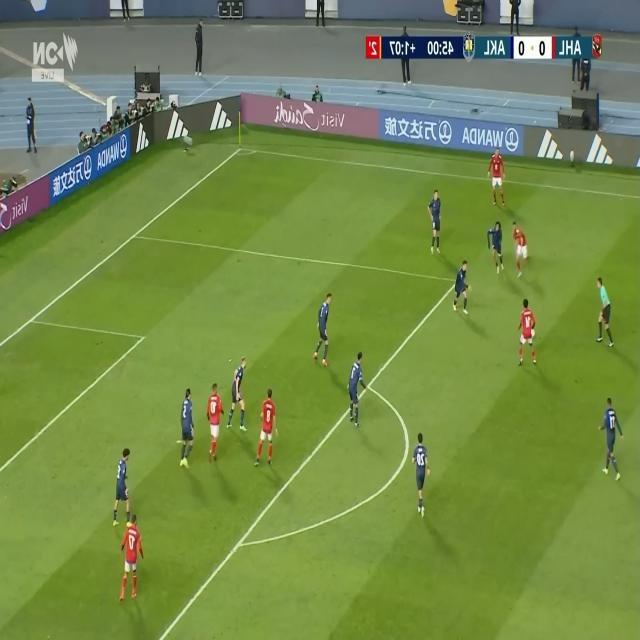Ball: (530, 326, 536, 338)
Player: (117, 518, 143, 604), (252, 390, 278, 470), (597, 398, 624, 475), (410, 429, 430, 518), (312, 289, 333, 372), (345, 349, 366, 431), (112, 444, 130, 533), (227, 359, 247, 432), (510, 221, 532, 276), (424, 190, 442, 257), (179, 388, 193, 473), (207, 382, 222, 461), (450, 258, 470, 315), (486, 151, 505, 209), (518, 299, 534, 367), (486, 221, 503, 277)
Ref: (596, 275, 613, 347)
